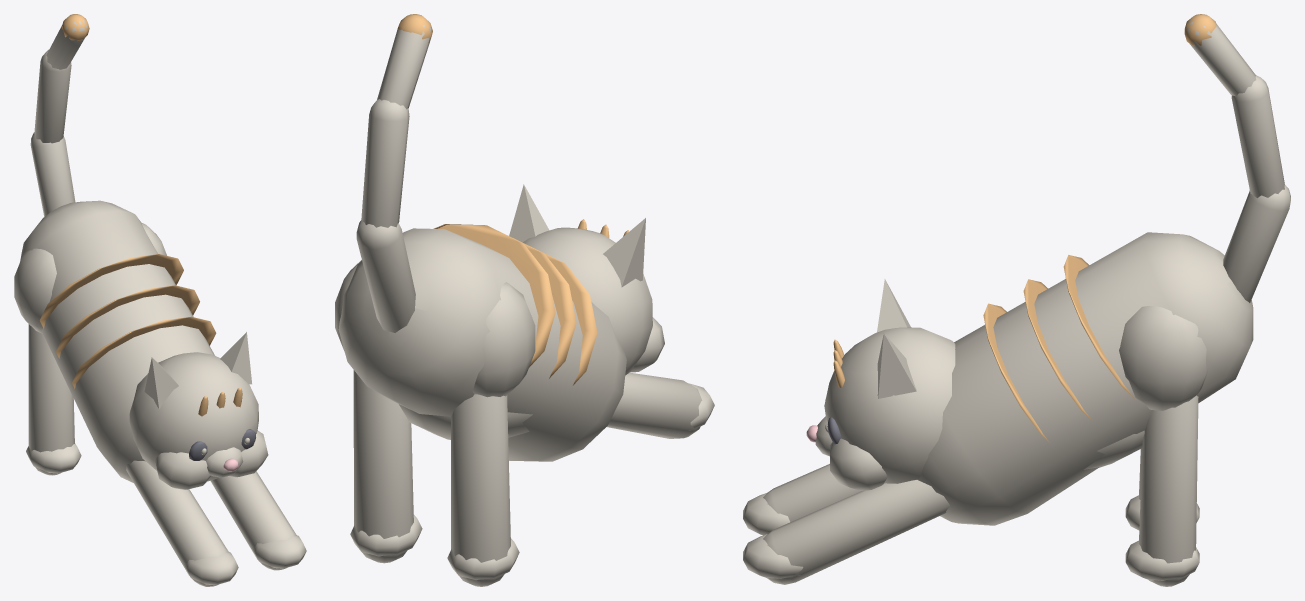
The model's file is companion-animals-and-pet-home-cat-stretching-calico-c4342964__20552.glb.
The picture shows the model from 3 angles, left to right: view 1: azimuth 30°, elevation 25°; view 2: azimuth 150°, elevation 25°; view 3: azimuth 270°, elevation 25°; orthographic projection. The views are drawn at different scales.
Parts seen in each view (by area): view 1: cat-stretching-calico; view 2: cat-stretching-calico; view 3: cat-stretching-calico.
Boxes of the visible parts, x1,y1,x2,y2 form: cat-stretching-calico: [14, 14, 306, 586]; cat-stretching-calico: [335, 14, 714, 586]; cat-stretching-calico: [743, 14, 1290, 586].
Size of the model in its own units: 0.219 by 0.6476 by 0.5887.
